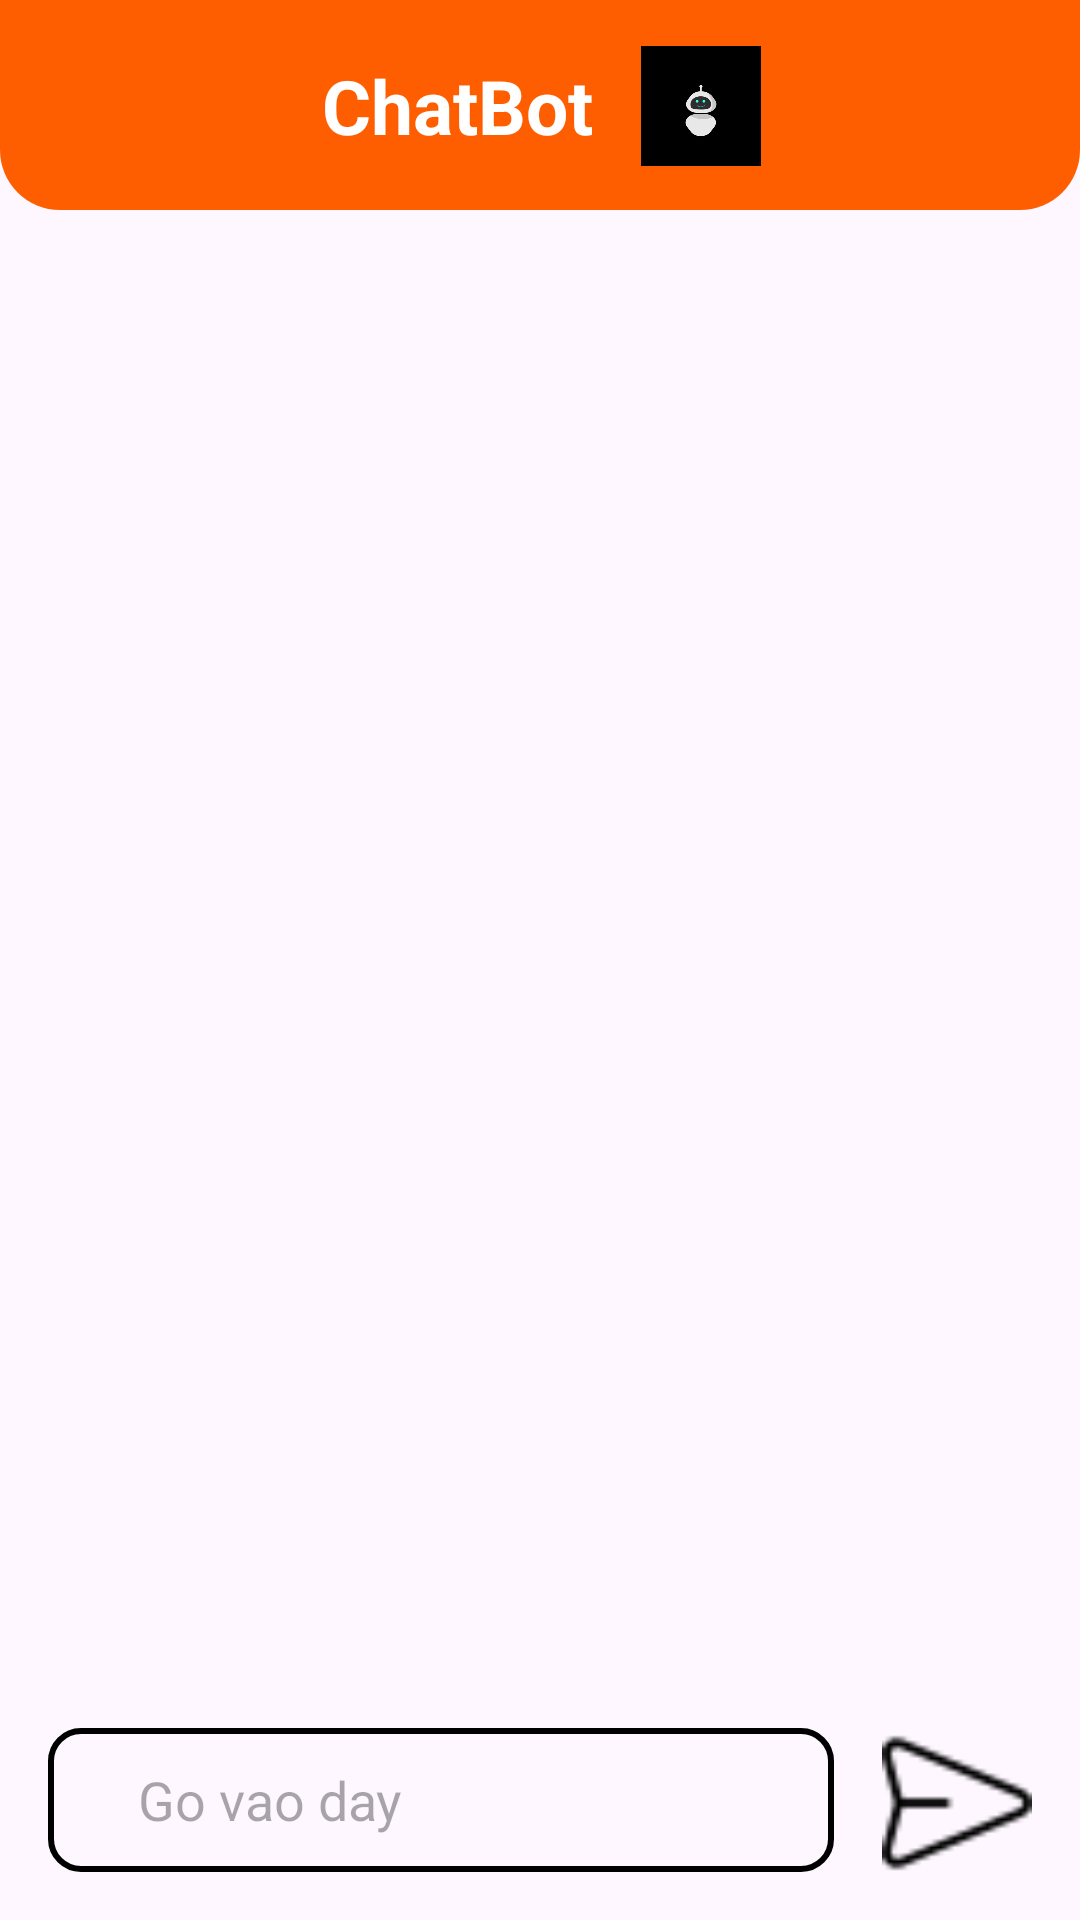

Icon click points for this 1080 × 1920 phone screenshot, format [x,y]:
send: [957,1803]
